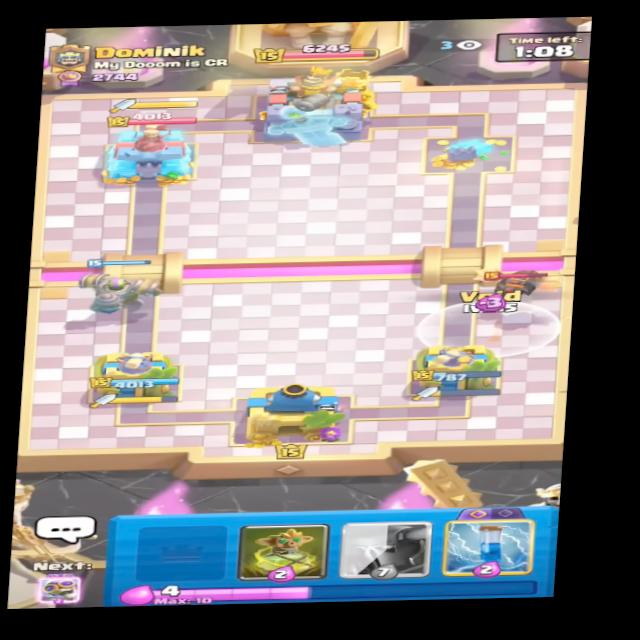lava-hound: (466, 261, 562, 302)
